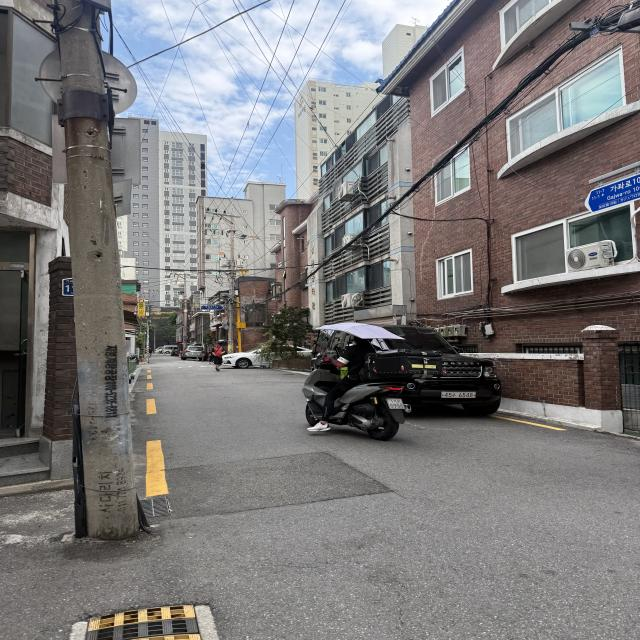car: (312, 308, 538, 422)
motorcycle: (291, 320, 430, 461)
